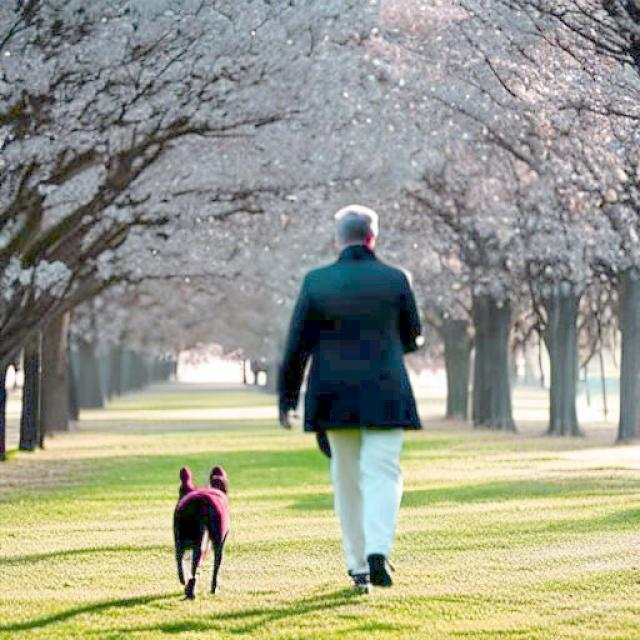Unleashed_Dog: (172, 394, 402, 600)
